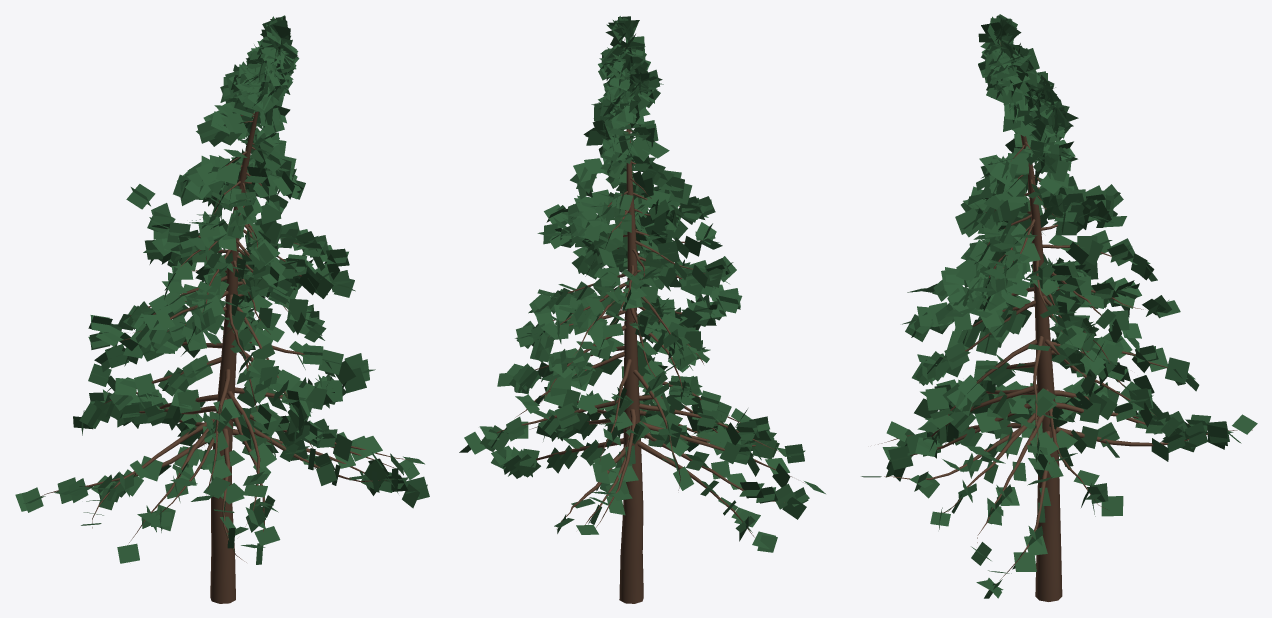
Rendered from meadow-pine-a.lod1.glb.
3 renders of one model, left to right at view 1: azimuth 30°, elevation 25°; view 2: azimuth 150°, elevation 25°; view 3: azimuth 270°, elevation 25°, orthographic. The views are drawn at different scales.
Parts seen in each view (by area): view 1: leaves, bark; view 2: leaves, bark; view 3: leaves, bark.
Part boxes in pixels (x1,y1,x2,y2): leaves: (15,15,429,564); bark: (40,111,415,603); leaves: (459,16,825,552); bark: (482,39,805,603); leaves: (861,14,1257,598); bark: (878,42,1252,601).
Size of the model in its own units: 32.34 by 51.27 by 31.44.
